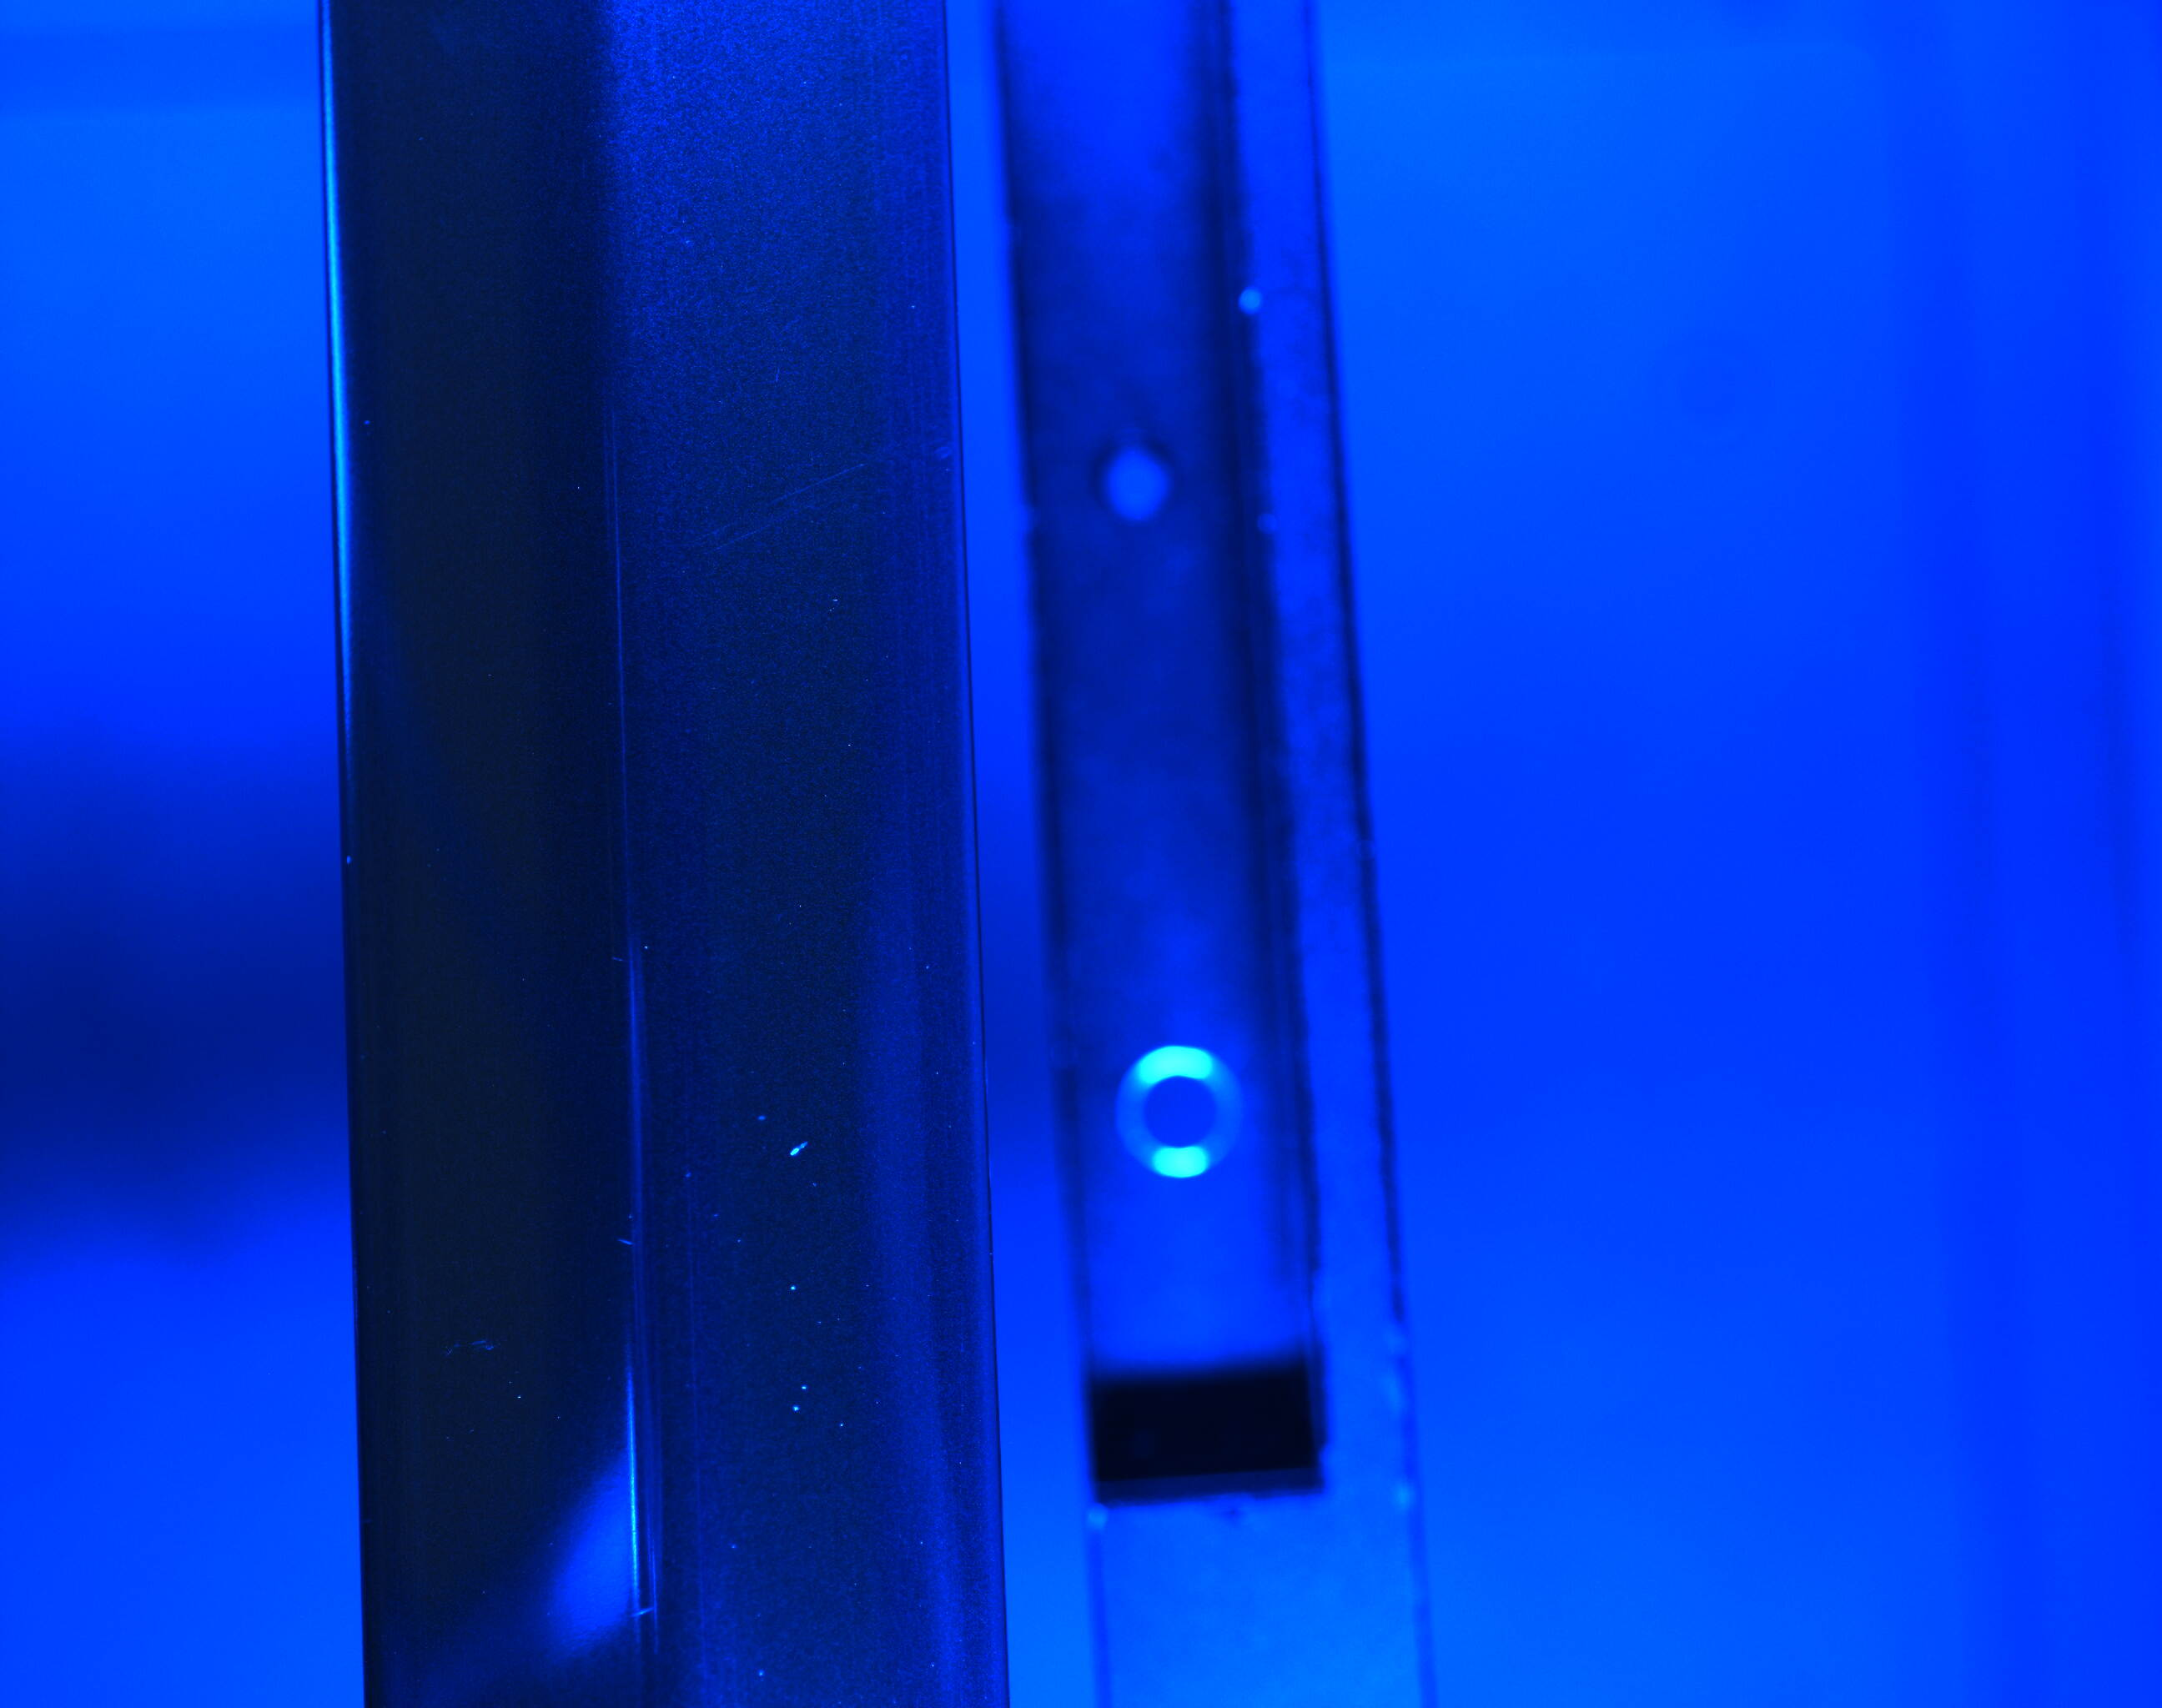NG: (451, 1324, 519, 1385), (767, 1113, 816, 1187)
